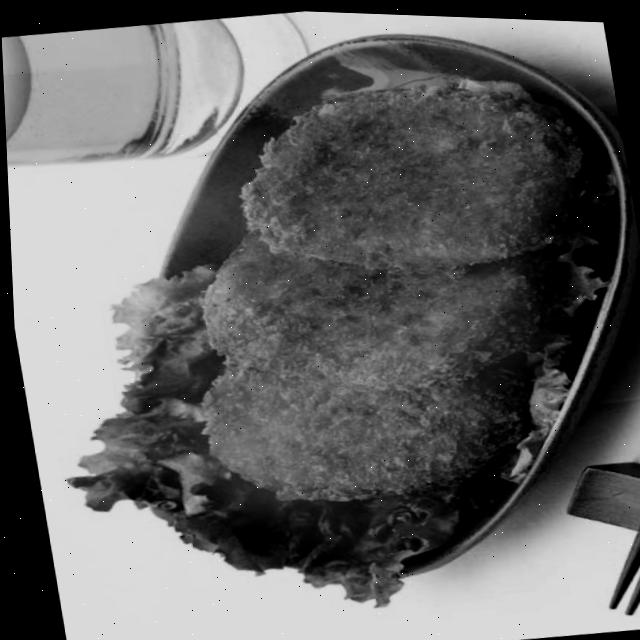炸货点心: (127, 48, 640, 534)
